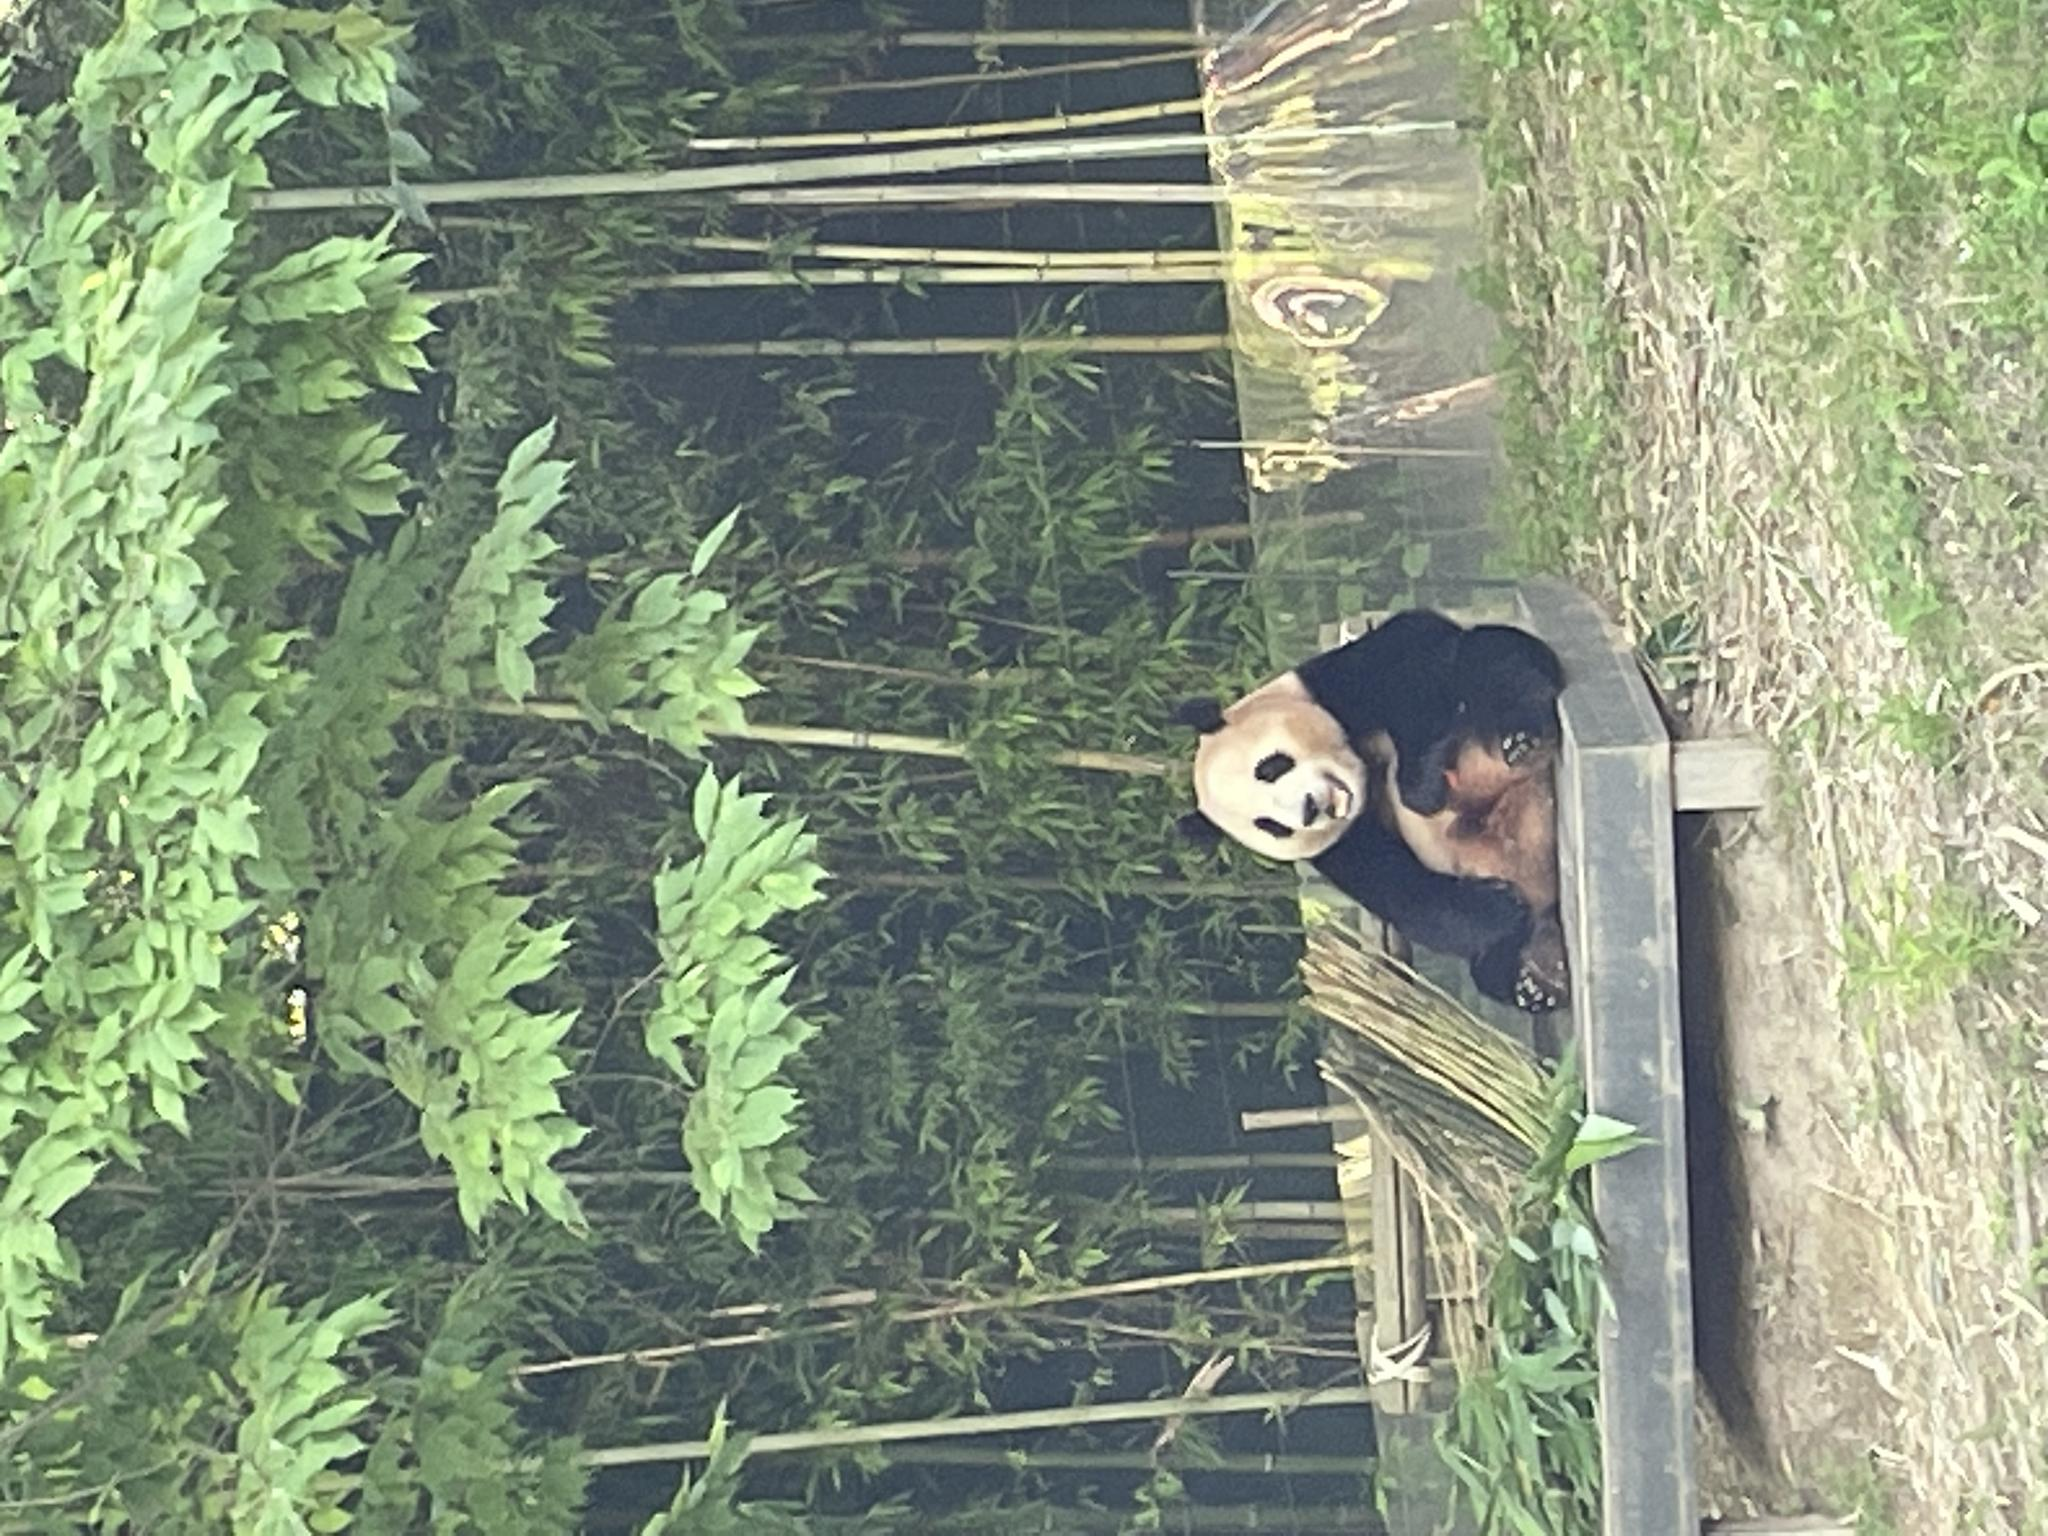panda: (518, 1167, 927, 1536)
